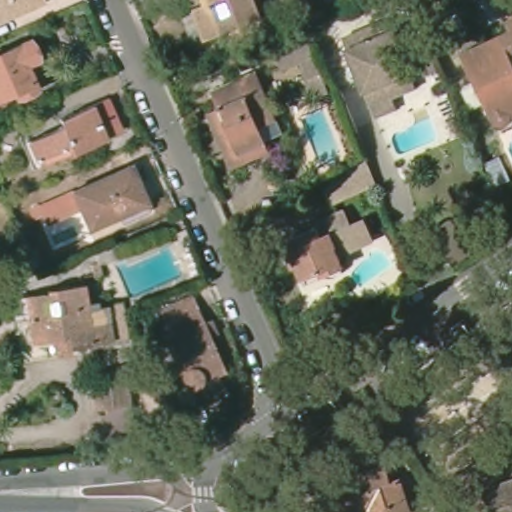pool: (113, 251, 194, 293), (299, 103, 347, 172), (389, 108, 438, 157), (350, 245, 399, 289)
